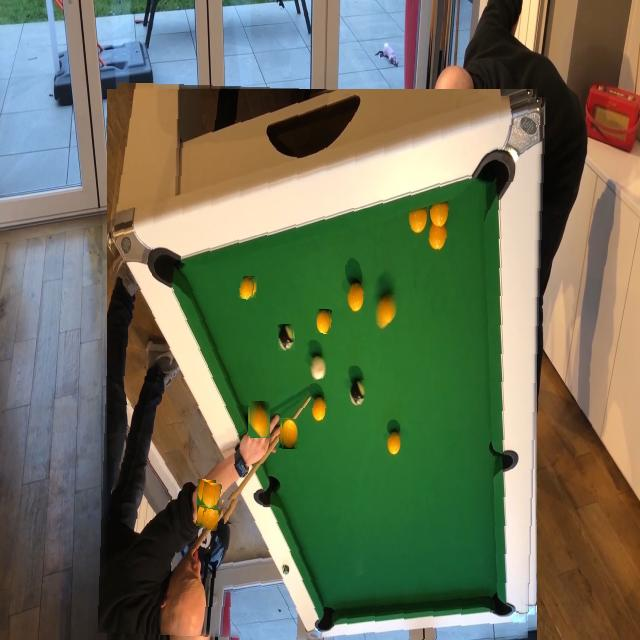Ball: (250, 403, 270, 438), (201, 482, 221, 510), (282, 419, 298, 449), (201, 506, 220, 531), (222, 500, 240, 524), (278, 325, 294, 351), (318, 350, 334, 373), (239, 278, 255, 300), (316, 309, 330, 333)
Billiard table: (102, 85, 541, 640)
